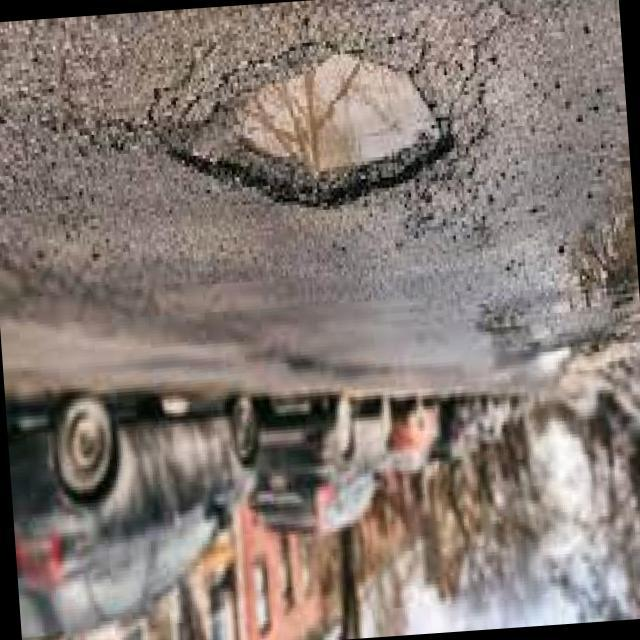pothole: (148, 29, 460, 228)
